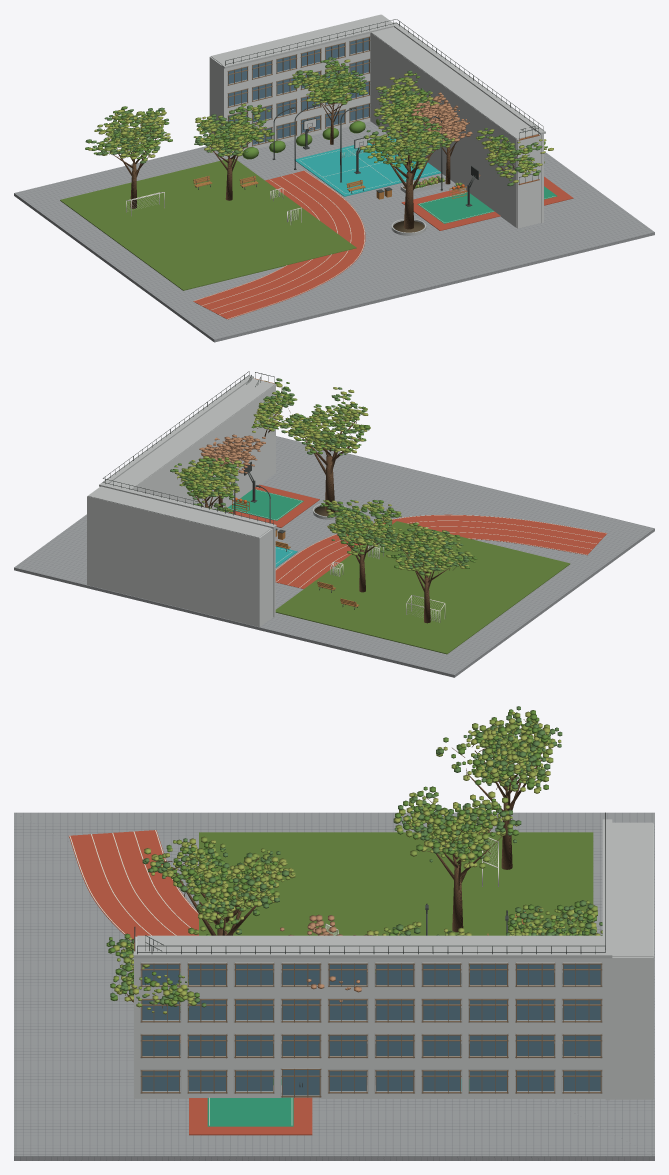
Rendered from campus-courtyard.glb.
3 views of the same model, one above another, from view 1: azimuth 30°, elevation 25°; view 2: azimuth 150°, elevation 25°; view 3: azimuth 270°, elevation 25° (orthographic). The views are drawn at different scales.
Visible parts, largest first — view 1: SITE-PAVERS, LAWN-L, BLD-B-SHELL, BLD-A-SHELL, TRACK-ARC, TREE-01, COURT-NE, TREE-06, TREE-02, TREE-07, TREE-03, TREE-05 (+3 smaller); view 2: SITE-PAVERS, BLD-A-SHELL, LAWN-L, BLD-B-SHELL, TRACK-ARC, TREE-01, TREE-06, TREE-02, TREE-03, TREE-04, COURT-E-IN, TREE-05 (+1 smaller); view 3: SITE-PAVERS, BLD-B-SHELL, LAWN-L, BLD-A-SHELL, TRACK-ARC, TREE-01, TREE-02, TREE-06, TREE-05, COURT-E-IN, TREE-07, COURT-E (+42 smaller).
Boxes of the visible parts, x1=… form: SITE-PAVERS: x1=14, y1=121, x2=654, y2=342; LAWN-L: x1=60, y1=158, x2=356, y2=290; BLD-B-SHELL: x1=370, y1=23, x2=545, y2=228; BLD-A-SHELL: x1=209, y1=14, x2=398, y2=156; TRACK-ARC: x1=193, y1=170, x2=365, y2=319; TREE-01: x1=359, y1=113, x2=455, y2=229; COURT-NE: x1=295, y1=136, x2=441, y2=196; TREE-06: x1=85, y1=106, x2=172, y2=208; TREE-02: x1=193, y1=103, x2=274, y2=200; TREE-07: x1=287, y1=57, x2=367, y2=144; TREE-03: x1=373, y1=70, x2=439, y2=167; TREE-05: x1=476, y1=128, x2=553, y2=185; SITE-PAVERS: x1=14, y1=436, x2=654, y2=677; BLD-A-SHELL: x1=87, y1=482, x2=276, y2=626; LAWN-L: x1=275, y1=521, x2=570, y2=654; BLD-B-SHELL: x1=102, y1=375, x2=275, y2=508; TRACK-ARC: x1=275, y1=514, x2=607, y2=588; TREE-01: x1=281, y1=387, x2=370, y2=512; TREE-06: x1=379, y1=522, x2=477, y2=623; TREE-02: x1=320, y1=500, x2=401, y2=592; TREE-03: x1=170, y1=456, x2=244, y2=507; TREE-04: x1=199, y1=434, x2=265, y2=507; COURT-E-IN: x1=227, y1=489, x2=303, y2=520; TREE-05: x1=251, y1=378, x2=297, y2=436; SITE-PAVERS: x1=14, y1=812, x2=654, y2=1160; BLD-B-SHELL: x1=133, y1=935, x2=608, y2=1098; LAWN-L: x1=199, y1=832, x2=593, y2=935; BLD-A-SHELL: x1=602, y1=819, x2=653, y2=1100; TRACK-ARC: x1=69, y1=830, x2=198, y2=940; TREE-01: x1=142, y1=836, x2=295, y2=935; TREE-02: x1=393, y1=786, x2=521, y2=932; TREE-06: x1=436, y1=706, x2=562, y2=869; TREE-05: x1=106, y1=926, x2=209, y2=1014; COURT-E-IN: x1=207, y1=1079, x2=293, y2=1126; TREE-07: x1=506, y1=900, x2=602, y2=935; COURT-E: x1=189, y1=1097, x2=312, y2=1135.
Bounding box in the file's own units: 66 × 15.62 × 52.
25 materials, 2 textured.
